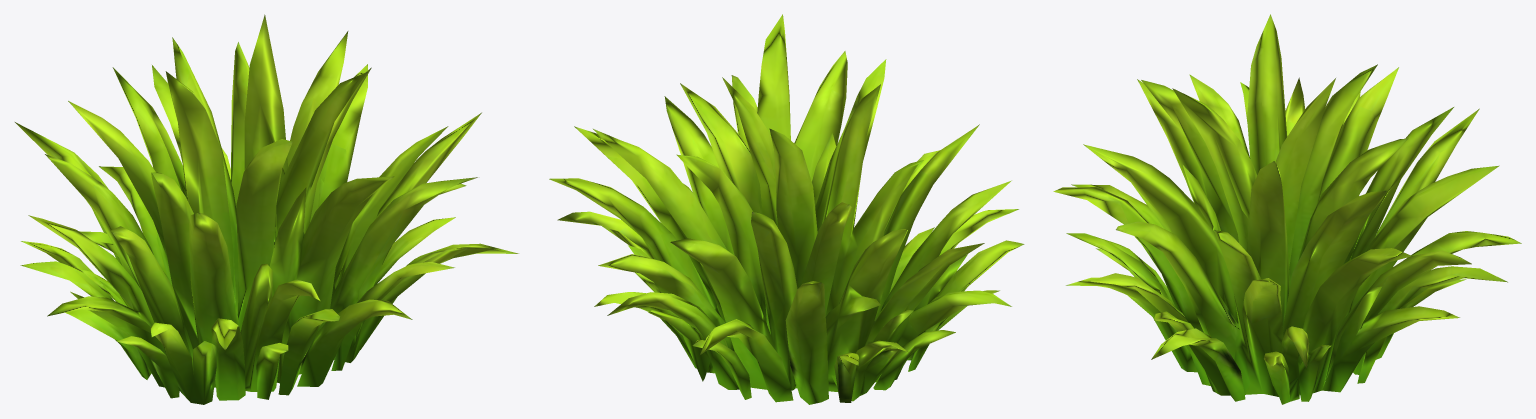
Rendered from grass.glb.
The picture shows the model from 3 angles, left to right: view 1: azimuth 30°, elevation 25°; view 2: azimuth 150°, elevation 25°; view 3: azimuth 270°, elevation 25°; orthographic projection. The views are drawn at different scales.
Visible parts, largest first — view 1: tuft; view 2: tuft; view 3: tuft.
Part boxes in pixels (box(x1,y1,x2,y2)): tuft: box(15, 14, 518, 404); tuft: box(549, 14, 1024, 404); tuft: box(1053, 14, 1521, 404).
Size of the model in its own units: 0.2422 by 0.16 by 0.2242.
1 material, 1 textured.
